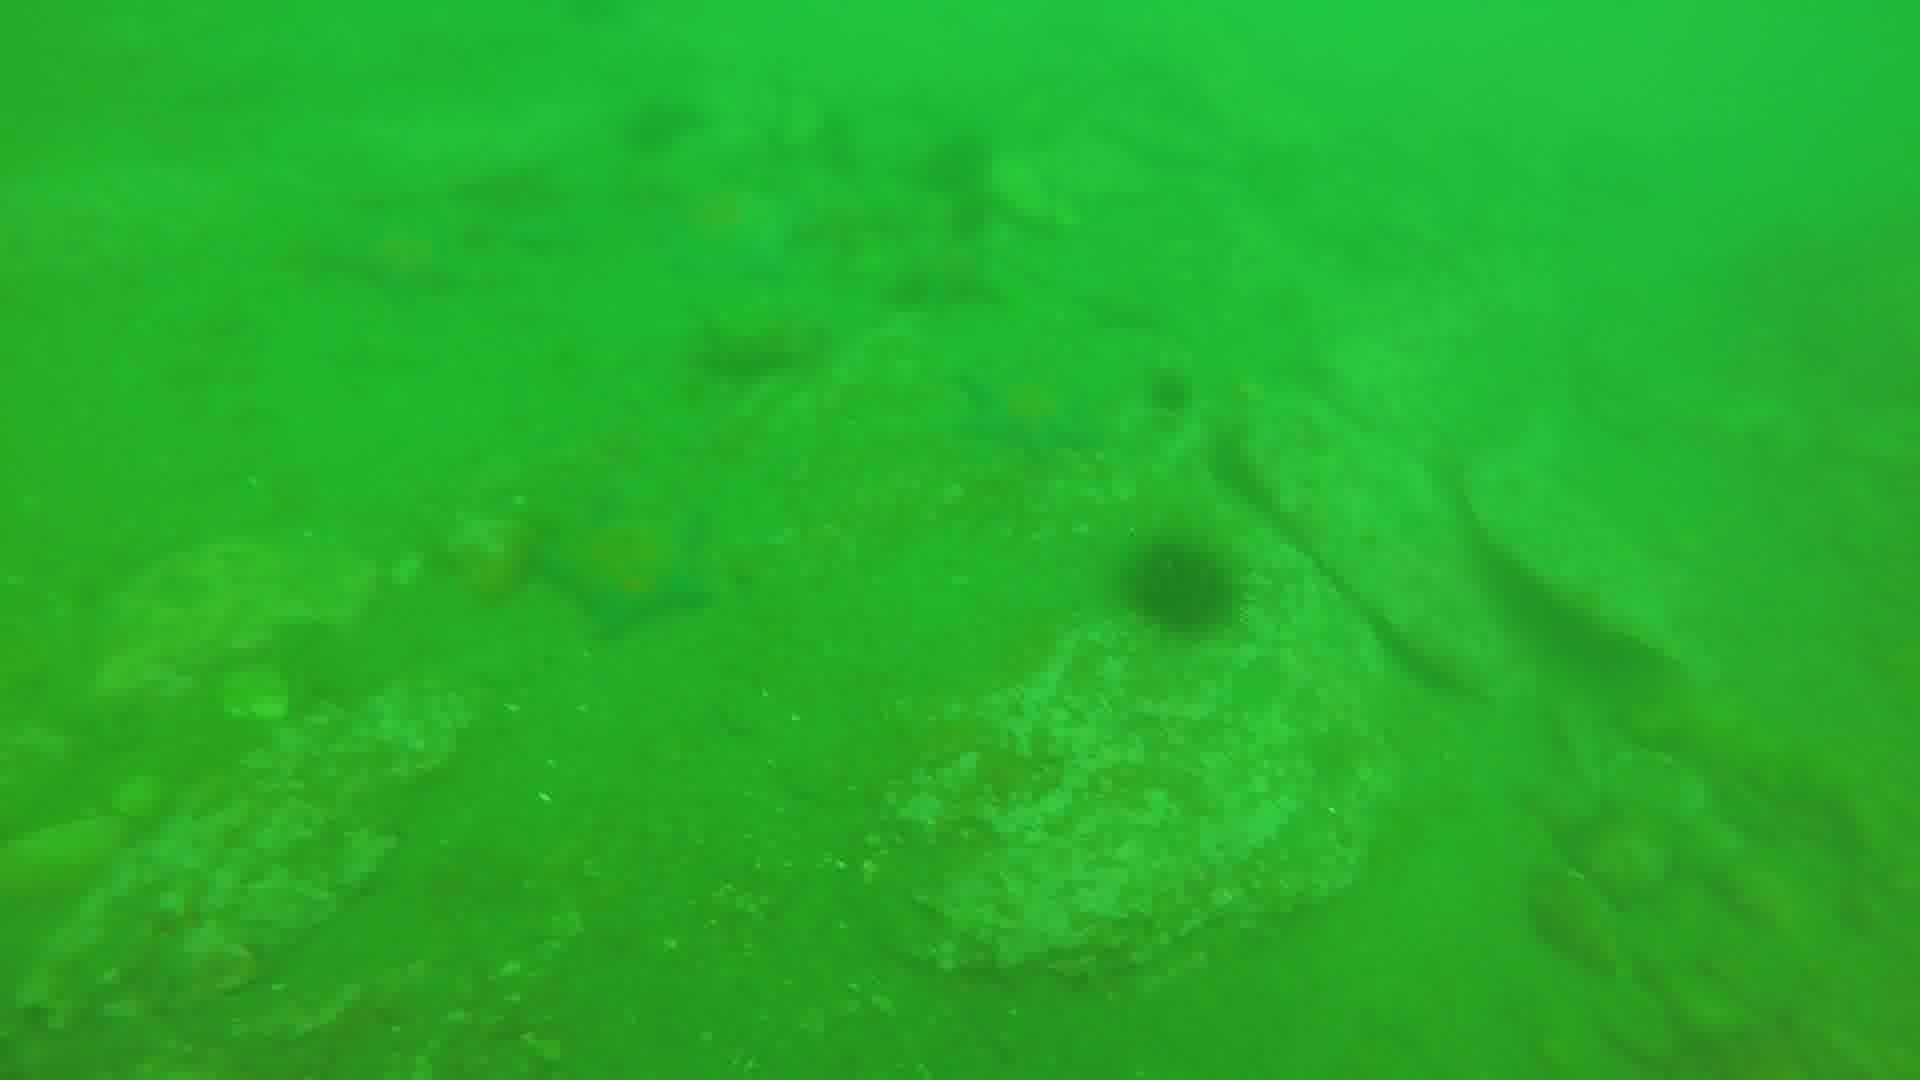echinus: (1120, 534, 1247, 644), (616, 91, 705, 160), (915, 128, 998, 200), (1138, 365, 1199, 421)
starfish: (533, 498, 719, 642), (306, 212, 473, 309), (655, 178, 803, 284), (953, 361, 1097, 465)
